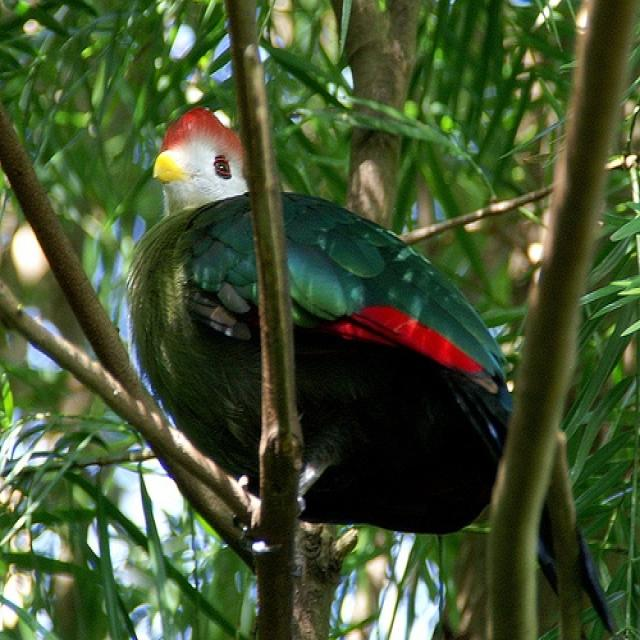bird: (127, 106, 622, 638)
